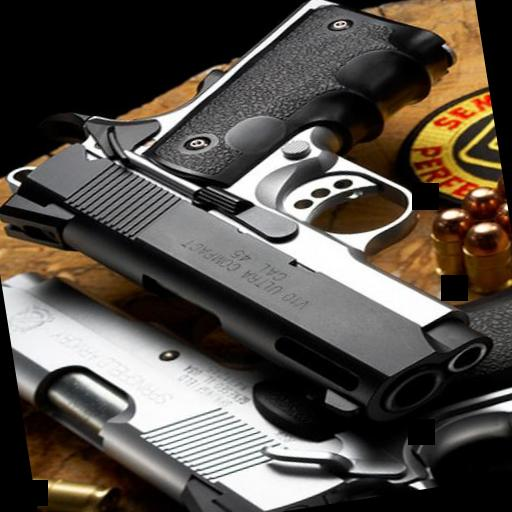Handgun: (0, 0, 512, 475), (1, 189, 512, 512)
